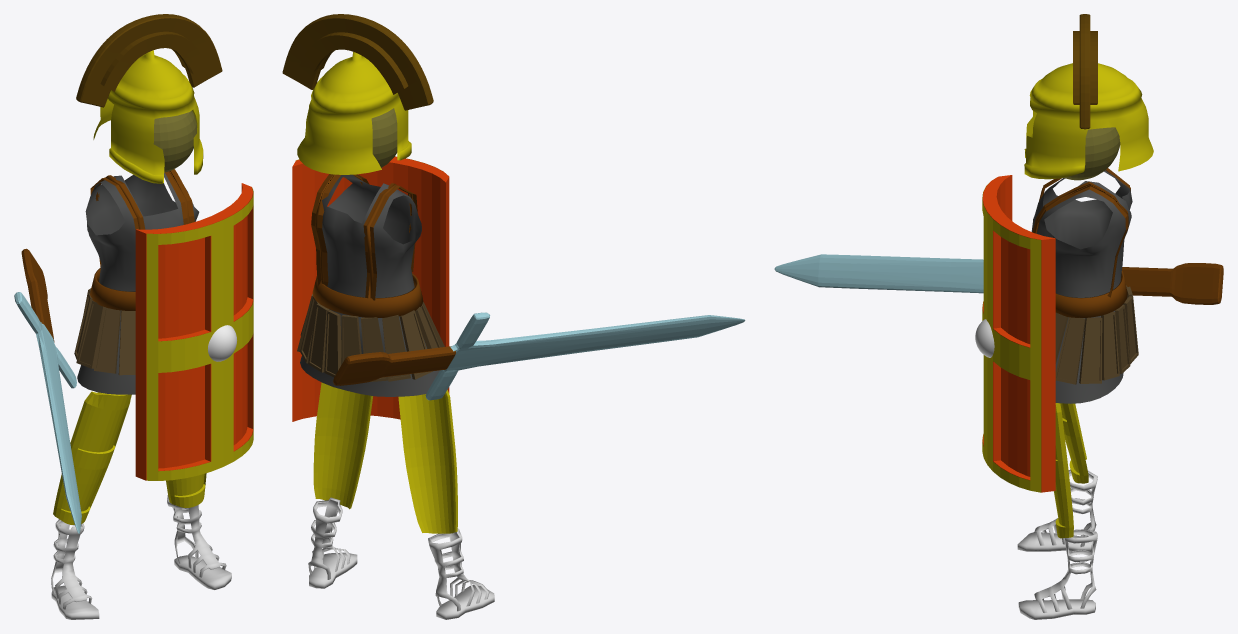
Rendered from Legion.dae.
3 views of the same model, side by side, from view 1: azimuth 30°, elevation 25°; view 2: azimuth 150°, elevation 25°; view 3: azimuth 270°, elevation 25° (orthographic). The views are drawn at different scales.
Visible parts, largest first — view 1: Cylinder, Cylinder_001, Circle, helmet, helmet_top, Human_005, fender_right, sword, armor_upper_leg, belt, Sphere_001, sword_handle (+2 smaller); view 2: Cylinder, Circle, helmet, sword, helmet_top, fender_right, armor_upper_leg, fender_left, Human_005, belt, sword_handle, Sphere_001; view 3: Cylinder, helmet, Circle, Cylinder_001, sword, armor_upper_leg, Human_005, sword_handle, belt, helmet_top, fender_left, Sphere_001 (+1 smaller).
Boxes of the visible parts, left/top/right/bottom form: Cylinder: left=135, top=183, right=253, bottom=480; Cylinder_001: left=146, top=187, right=253, bottom=480; Circle: left=77, top=173, right=199, bottom=394; helmet: left=93, top=50, right=203, bottom=183; helmet_top: left=76, top=14, right=222, bottom=107; Human_005: left=51, top=495, right=231, bottom=619; fender_right: left=53, top=391, right=131, bottom=524; sword: left=14, top=292, right=81, bottom=533; armor_upper_leg: left=74, top=288, right=135, bottom=375; belt: left=90, top=169, right=194, bottom=310; Sphere_001: left=153, top=110, right=196, bottom=172; sword_handle: left=21, top=248, right=54, bottom=342; Cylinder: left=292, top=156, right=449, bottom=421; Circle: left=300, top=174, right=439, bottom=396; helmet: left=297, top=52, right=411, bottom=174; sword: left=425, top=312, right=745, bottom=400; helmet_top: left=282, top=14, right=433, bottom=110; fender_right: left=398, top=390, right=457, bottom=533; armor_upper_leg: left=297, top=294, right=444, bottom=381; fender_left: left=313, top=382, right=372, bottom=509; Human_005: left=308, top=497, right=494, bottom=619; belt: left=311, top=174, right=423, bottom=317; sword_handle: left=333, top=346, right=455, bottom=385; Sphere_001: left=371, top=108, right=397, bottom=167; Cylinder: left=982, top=175, right=1055, bottom=492; helmet: left=1024, top=63, right=1153, bottom=179; Circle: left=1031, top=170, right=1132, bottom=403; Cylinder_001: left=982, top=183, right=1041, bottom=492; sword: left=774, top=254, right=983, bottom=293; armor_upper_leg: left=1055, top=285, right=1138, bottom=384; Human_005: left=1017, top=469, right=1097, bottom=619; sword_handle: left=1122, top=263, right=1223, bottom=304; belt: left=1032, top=168, right=1130, bottom=317; helmet_top: left=1073, top=14, right=1097, bottom=129; fender_left: left=1054, top=403, right=1073, bottom=538; Sphere_001: left=1063, top=127, right=1120, bottom=180.
Bounding box in the file's own units: 1.28 × 1.59 × 2.23.
